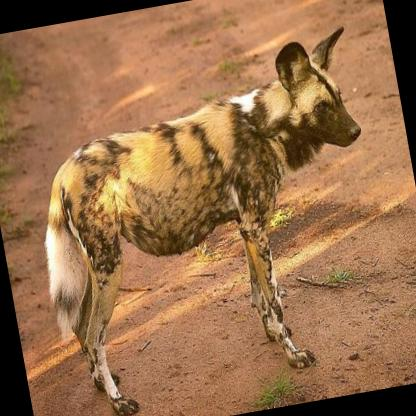African_hunting_dog: (9, 21, 407, 416)
